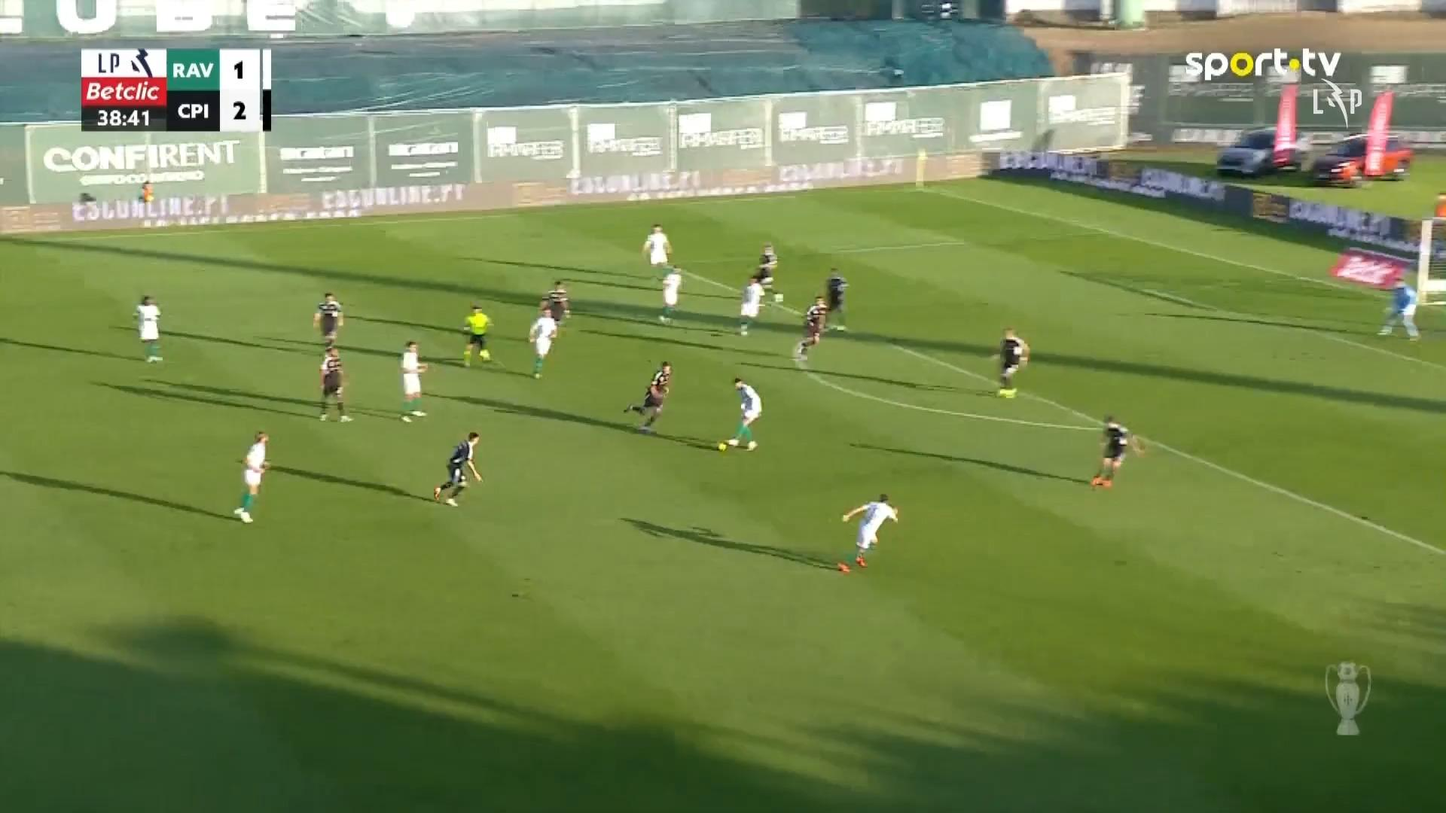ball: (718, 441, 726, 451)
goalkeeper: (1377, 276, 1420, 340)
player: (840, 492, 898, 568), (1090, 413, 1146, 488), (432, 431, 483, 507), (623, 360, 673, 434), (233, 431, 270, 523), (723, 376, 762, 451), (318, 346, 353, 422), (398, 340, 429, 422), (996, 326, 1030, 397), (527, 306, 557, 379), (795, 296, 828, 361), (133, 294, 163, 362), (313, 291, 343, 351), (824, 266, 849, 331), (737, 276, 764, 336), (754, 242, 780, 301), (641, 223, 673, 270), (542, 279, 572, 328), (658, 264, 682, 324)
referee: (460, 303, 493, 367)
